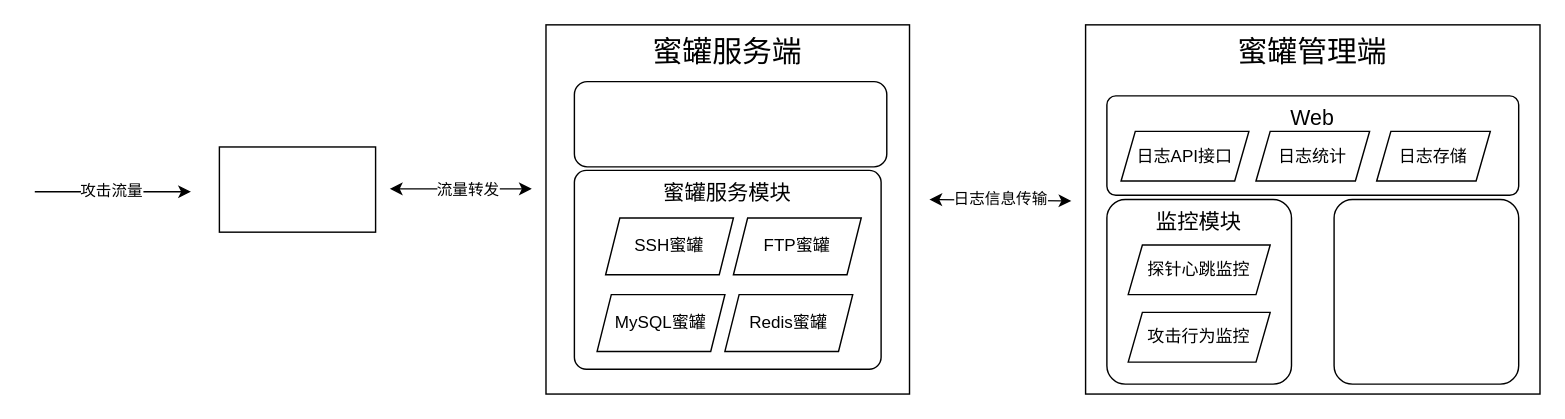
Some shapes in this 1565 by 419 pixel diagram are drawn without their labels. The centre of each missing label's shape, as x and y in pixels:
"反向代理模块" belongs at pixel 730 123.
"消息推送模块" belongs at pixel 1426 291.
"蜜罐探针" belongs at pixel 297 189.
